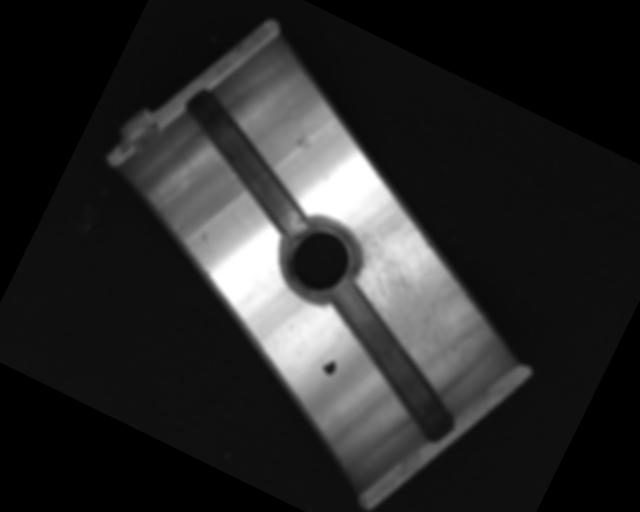blot: (319, 355, 340, 378)
bruise: (293, 129, 315, 153), (198, 230, 212, 243)
gap: (295, 277, 490, 446), (154, 84, 342, 241)
hole: (268, 205, 373, 314)
nick: (152, 163, 198, 218)
scratch: (304, 187, 505, 379)
